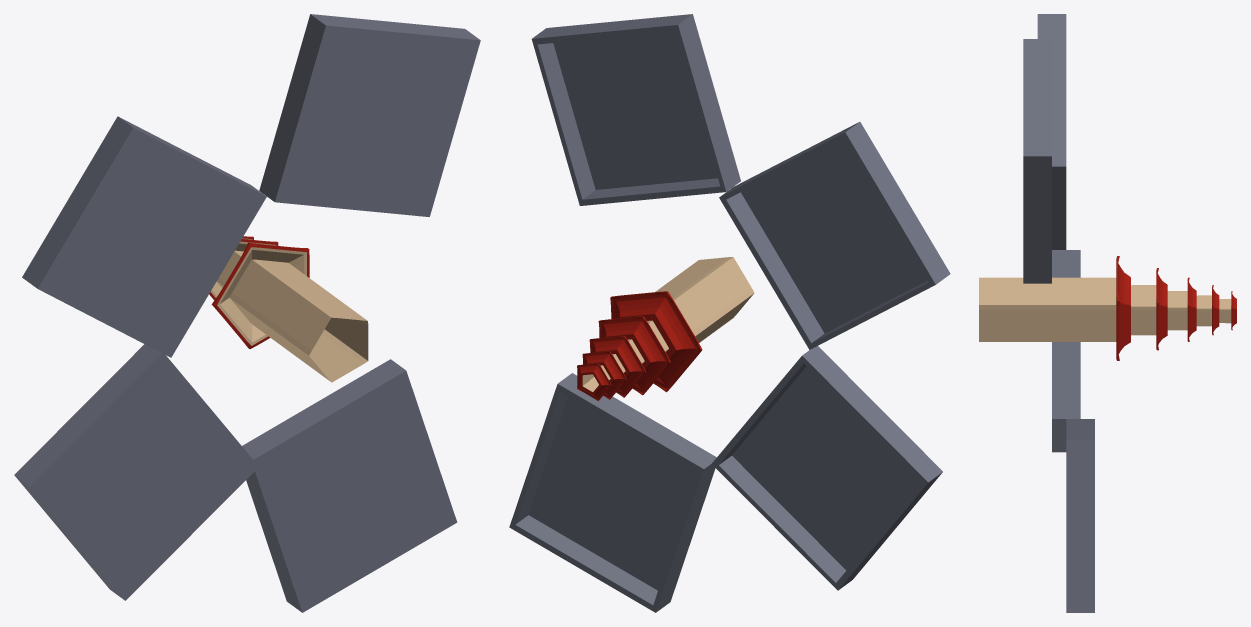
Rendered from tower.dae.
3 views of the same model, side by side, from view 1: azimuth 30°, elevation 25°; view 2: azimuth 150°, elevation 25°; view 3: azimuth 270°, elevation 25° (orthographic). The views are drawn at different scales.
Parts seen in each view (by area): view 1: Cube_030, Plane_010; view 2: Cube_030, Plane_010; view 3: Cube_030, Plane_010.
Boxes of the visible parts, x1=… form: Cube_030: x1=14, y1=14, x2=480, y2=612; Plane_010: x1=209, y1=236, x2=368, y2=382; Cube_030: x1=509, y1=14, x2=950, y2=612; Plane_010: x1=577, y1=257, x2=754, y2=400; Cube_030: x1=1023, y1=14, x2=1094, y2=612; Plane_010: x1=979, y1=256, x2=1236, y2=360.
Size of the model in its own units: 22.71 by 12.73 by 30.14.
